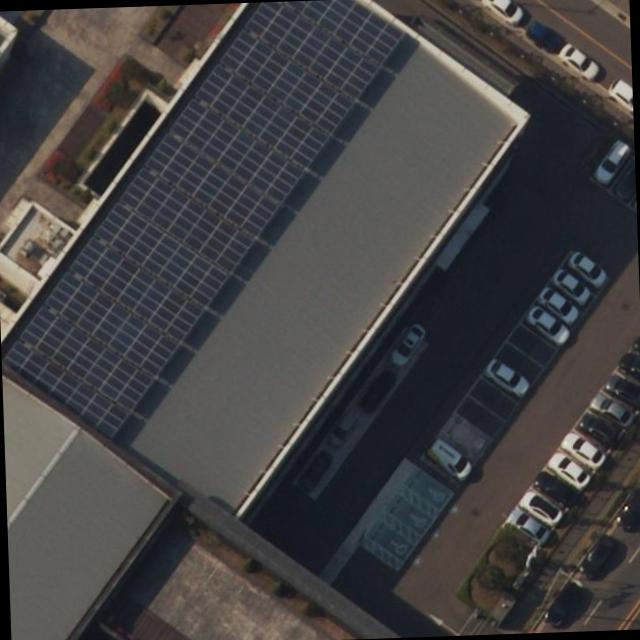solar: (208, 20, 359, 144), (59, 227, 212, 346), (36, 261, 186, 382), (160, 90, 311, 210), (184, 55, 333, 176), (110, 164, 262, 282), (136, 124, 281, 244), (88, 199, 236, 314), (18, 300, 159, 416), (237, 0, 390, 104), (5, 337, 134, 447), (269, 0, 417, 72)
